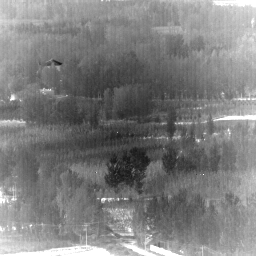aircraft: (116, 132, 118, 134)
